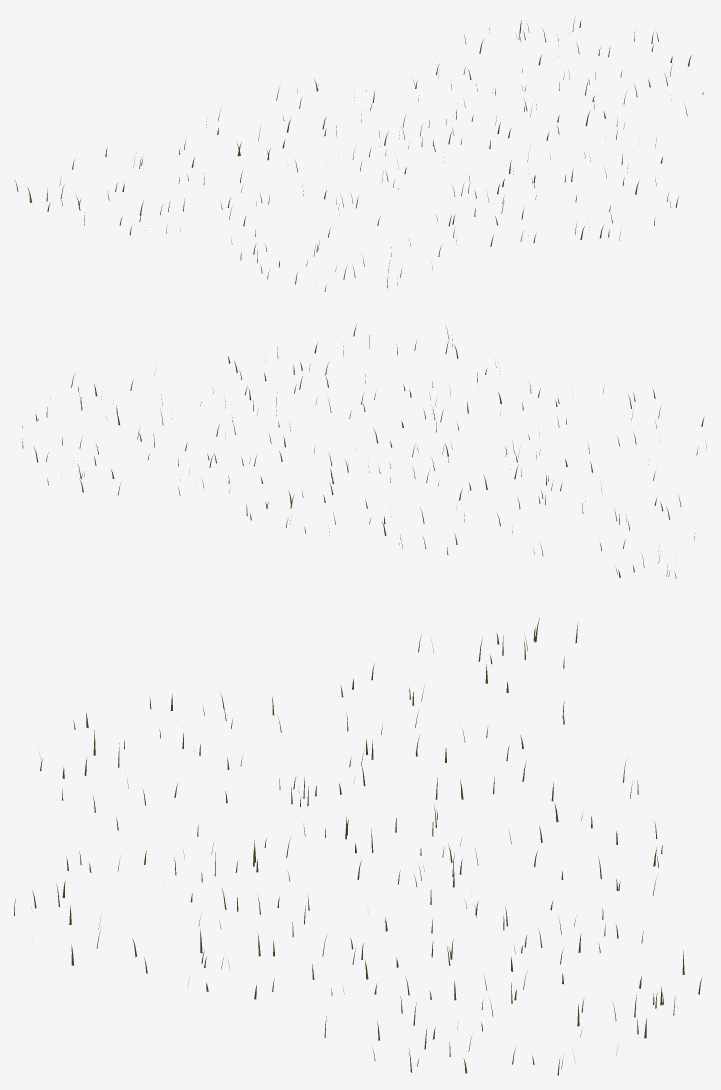
The picture shows the model from 3 angles, top to bottom: view 1: azimuth 30°, elevation 25°; view 2: azimuth 150°, elevation 25°; view 3: azimuth 270°, elevation 25°; orthographic projection. The views are drawn at different scales.
Visible parts, largest first — view 1: GrassPatch; view 2: GrassPatch; view 3: GrassPatch.
Part boxes in pixels (x1,y1,x2,y2): GrassPatch: [15, 16, 703, 291]; GrassPatch: [22, 323, 706, 578]; GrassPatch: [14, 618, 702, 1075].
Bounding box in the file's own units: 19.38 × 0.4915 × 12.92.
